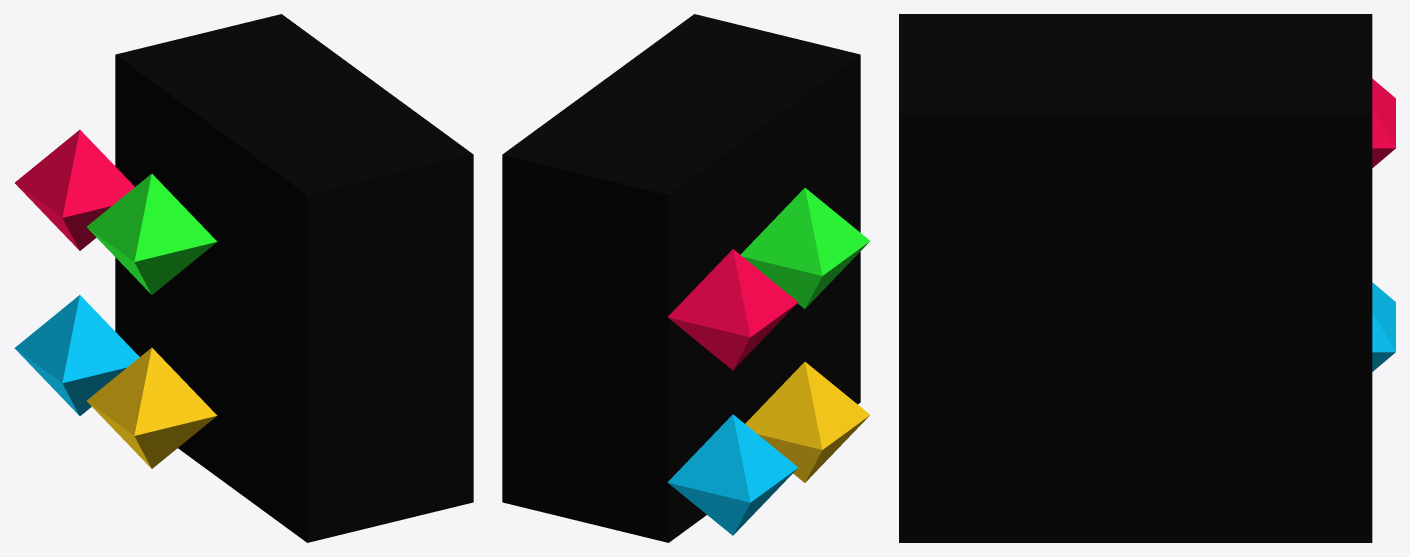
File: Sequence.fbx
The picture shows the model from 3 angles, left to right: view 1: azimuth 30°, elevation 25°; view 2: azimuth 150°, elevation 25°; view 3: azimuth 270°, elevation 25°; orthographic projection. The views are drawn at different scales.
Visible parts, largest first — view 1: BP_LevelCreator, Bp_Stand2, Bp_Stand4, Bp_Stand3, Bp_Stand; view 2: BP_LevelCreator, Bp_Stand, Bp_Stand3, Bp_Stand2, Bp_Stand4; view 3: BP_LevelCreator, Bp_Stand3, Bp_Stand.
Boxes of the visible parts, x1,y1,x2,y2 form: BP_LevelCreator: (115,14,473,542); Bp_Stand2: (86,173,217,294); Bp_Stand4: (86,347,217,468); Bp_Stand3: (14,295,139,415); Bp_Stand: (15,129,134,250); BP_LevelCreator: (502,14,860,542); Bp_Stand: (667,249,798,370); Bp_Stand3: (667,414,798,535); Bp_Stand2: (740,188,869,308); Bp_Stand4: (745,362,869,482); BP_LevelCreator: (899,14,1372,542); Bp_Stand3: (1372,282,1395,371); Bp_Stand: (1372,78,1395,167).
Size of what is drawn, in the model's own units: 31 by 42 by 40.
